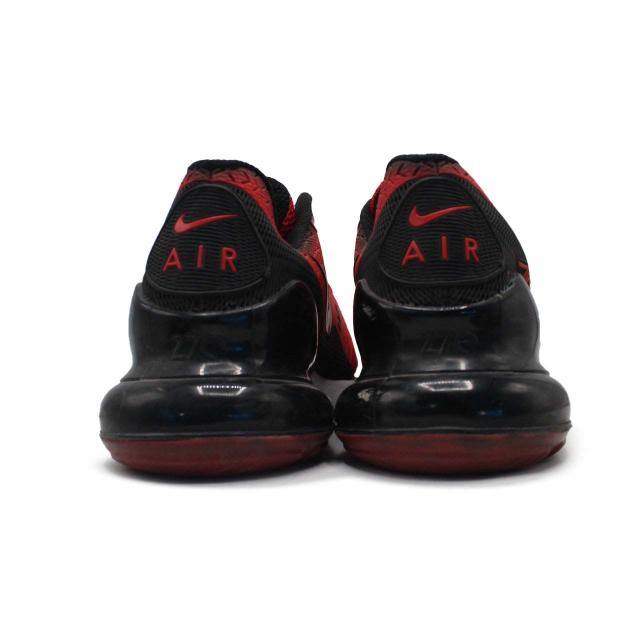heel: (110, 122, 322, 380), (353, 142, 554, 372)
midsole: (101, 362, 335, 472), (345, 384, 574, 472)
